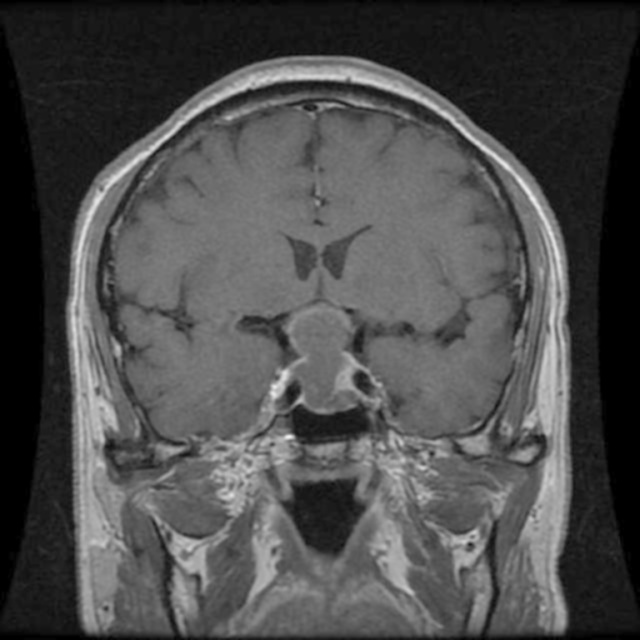no tumor: (280, 303, 359, 415)
